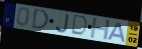0: (16, 7, 32, 28)
A: (107, 21, 127, 44)
D: (70, 14, 89, 38), (30, 8, 50, 30)
H: (89, 18, 112, 41)
J: (55, 13, 70, 34)
